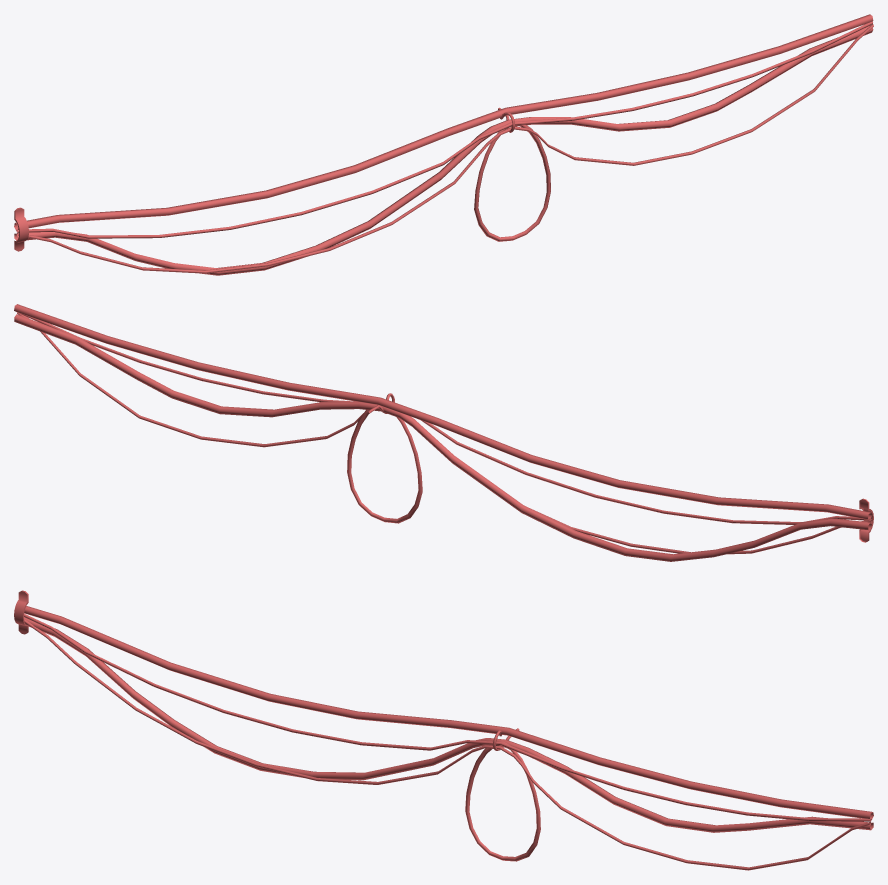
The model's file is Wire_C_Snaps004.FBX.
The picture shows the model from 3 angles, top to bottom: view 1: azimuth 30°, elevation 25°; view 2: azimuth 150°, elevation 25°; view 3: azimuth 330°, elevation 25°; orthographic projection.
Visible parts, largest first — view 1: Geometry_Wire_C_LOD00; view 2: Geometry_Wire_C_LOD00; view 3: Geometry_Wire_C_LOD00.
Part boxes in pixels (box(x1,y1,x2,y2)): Geometry_Wire_C_LOD00: box(14, 14, 873, 275); Geometry_Wire_C_LOD00: box(14, 304, 873, 561); Geometry_Wire_C_LOD00: box(14, 590, 873, 870).
Size of what is drawn, in the model's own units: 300 by 49.08 by 12.2.
